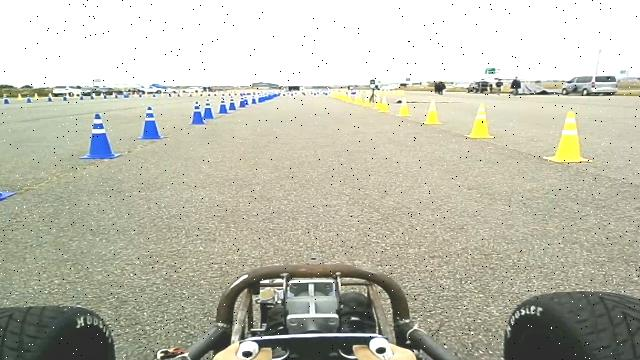blue cone: (78, 112, 120, 160), (0, 128, 16, 204), (136, 106, 164, 140), (188, 100, 206, 125), (202, 99, 216, 120), (217, 96, 229, 115), (227, 97, 237, 111), (191, 100, 202, 112), (238, 98, 250, 108), (258, 94, 266, 103)
yellow cone: (542, 110, 592, 163), (464, 102, 495, 138), (422, 99, 442, 124), (396, 97, 412, 117), (378, 95, 390, 113), (354, 93, 364, 105)
